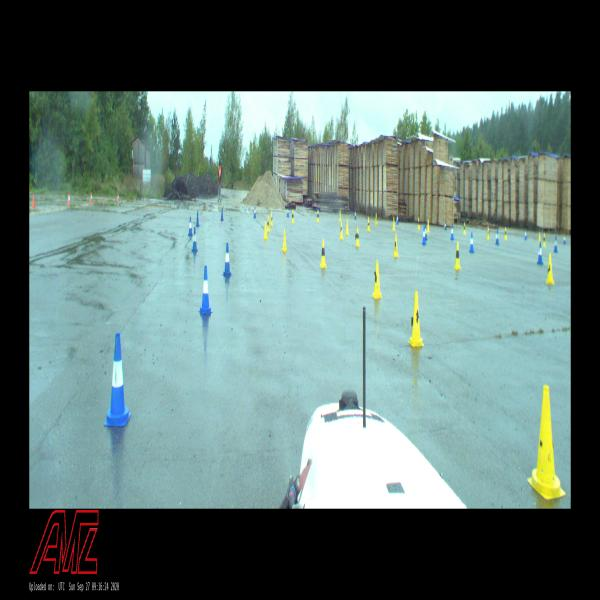blue_cone: (103, 331, 131, 428), (198, 265, 213, 314), (222, 242, 233, 277), (537, 241, 544, 266), (192, 226, 198, 252), (188, 216, 193, 236), (470, 232, 474, 254), (195, 210, 200, 227), (422, 226, 426, 245), (496, 228, 500, 246), (450, 223, 454, 241), (554, 236, 558, 253), (424, 222, 427, 241), (220, 207, 224, 221), (524, 228, 527, 241), (396, 213, 399, 225), (354, 209, 357, 220), (444, 220, 447, 231), (563, 234, 566, 244), (287, 205, 289, 218), (254, 206, 256, 218), (318, 206, 319, 218)
orange_cone: (32, 193, 36, 208), (90, 192, 93, 203), (68, 192, 70, 206), (117, 192, 119, 203)
yellow_cone: (527, 385, 566, 500), (408, 290, 425, 346), (371, 260, 383, 299), (546, 252, 554, 284), (319, 238, 327, 268), (454, 241, 461, 270), (281, 229, 288, 252), (393, 234, 399, 258), (355, 226, 360, 247), (263, 220, 268, 239), (339, 222, 344, 239), (345, 219, 349, 236), (266, 215, 270, 232), (366, 216, 370, 232), (486, 225, 490, 241), (291, 209, 295, 224), (270, 212, 274, 226), (504, 226, 507, 241), (542, 232, 545, 247), (392, 216, 395, 231), (375, 212, 378, 226), (427, 219, 430, 233), (463, 222, 466, 235), (317, 209, 320, 222), (538, 231, 541, 244), (418, 217, 420, 230), (339, 210, 341, 222)
